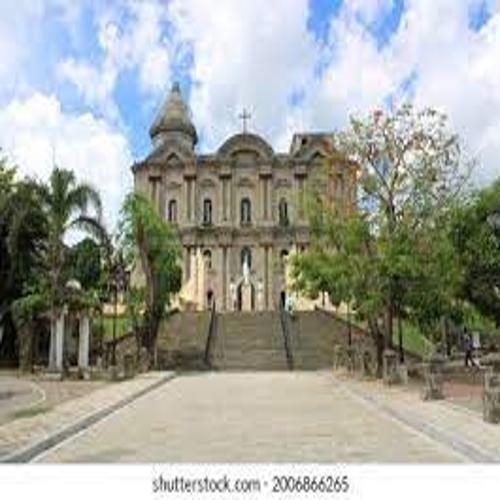Taal Basilica Church: (113, 65, 376, 323)
